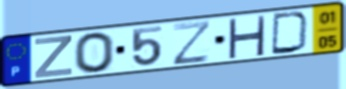5: (129, 26, 166, 68)
D: (269, 10, 312, 56)
H: (226, 15, 267, 59)
O: (72, 30, 117, 75)
Z: (171, 18, 214, 67), (33, 34, 75, 80)
